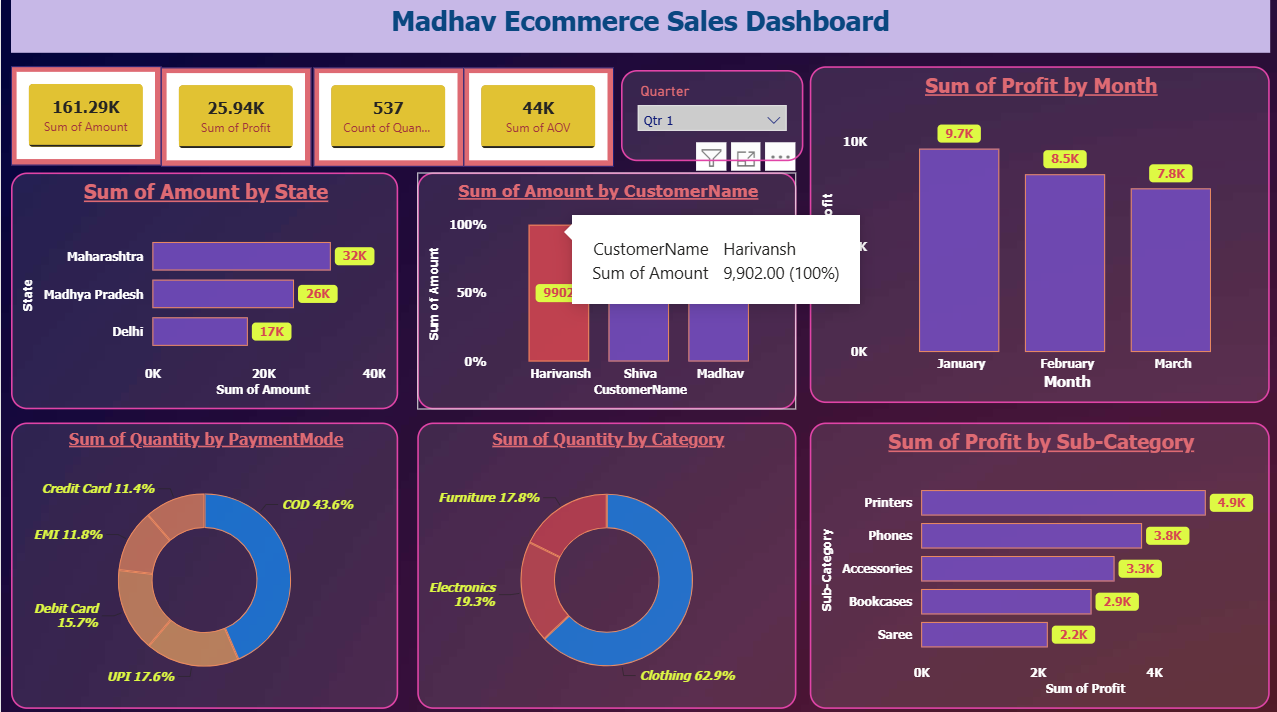

Layout of this report page (visuals, bound fields, positions):
{"tool":"powerbi","page":{"name":"Page 1","canvas":[1280,720],"ordinal":0},"visuals":[{"type":"textbox","box":[10,0,1259,53],"z":0},{"type":"columnChart","fields":{"Category":["Orders.Order Date.Variation.Date Hierarchy.Month"],"Y":["Sum(Details.Profit)"]},"box":[809,66,460,337],"z":1000},{"type":"barChart","fields":{"Category":["Details.Sub-Category"],"Y":["Sum(Details.Profit)"]},"box":[809,422,460,286],"z":2000},{"type":"donutChart","fields":{"Category":["Details.Category"],"Y":["Sum(Details.Quantity)"]},"box":[416,422,379,286],"z":3000},{"type":"donutChart","fields":{"Category":["Details.PaymentMode"],"Y":["Sum(Details.Quantity)"]},"box":[10,422,387,286],"z":4000},{"type":"cardVisual","fields":{"Data":["Sum(Details.Profit)"]},"box":[160,67,150,99],"z":5000},{"type":"cardVisual","fields":{"Data":["CountNonNull(Details.Quantity)"]},"box":[313,67,150,99],"z":6000},{"type":"cardVisual","fields":{"Data":["Sum(Details.AOV)"]},"box":[463,67,150,99],"z":7000},{"type":"cardVisual","fields":{"Data":["Sum(Details.Amount)"]},"box":[10,66,150,99],"z":8000},{"type":"barChart","fields":{"Category":["Orders.State"],"Y":["Sum(Details.Amount)"]},"box":[10,173,387,237],"z":9000},{"type":"hundredPercentStackedColumnChart","fields":{"Category":["Orders.CustomerName"],"Y":["Sum(Details.Amount)"]},"box":[416,173,379,237],"z":10000},{"type":"slicer","fields":{"Values":["Orders.Order Date.Variation.Date Hierarchy.Quarter"]},"box":[620,70,182,91],"z":11000}]}

Visuals, with their boxes in screenshot pixels (x1, y1, x2, y2), scaled from the page's 1280x720 canvas onto the 1277x712 screenshot:
textbox: crop(10, 0, 1266, 52)
columnChart - Orders.Order Date.Variation.Date Hierarchy.Month x Sum(Details.Profit): crop(807, 65, 1266, 399)
barChart - Details.Sub-Category x Sum(Details.Profit): crop(807, 417, 1266, 700)
donutChart - Details.Category x Sum(Details.Quantity): crop(415, 417, 793, 700)
donutChart - Details.PaymentMode x Sum(Details.Quantity): crop(10, 417, 396, 700)
cardVisual - Sum(Details.Profit): crop(160, 66, 309, 164)
cardVisual - CountNonNull(Details.Quantity): crop(312, 66, 462, 164)
cardVisual - Sum(Details.AOV): crop(462, 66, 612, 164)
cardVisual - Sum(Details.Amount): crop(10, 65, 160, 163)
barChart - Orders.State x Sum(Details.Amount): crop(10, 171, 396, 405)
hundredPercentStackedColumnChart - Orders.CustomerName x Sum(Details.Amount): crop(415, 171, 793, 405)
slicer - Orders.Order Date.Variation.Date Hierarchy.Quarter: crop(619, 69, 800, 159)
